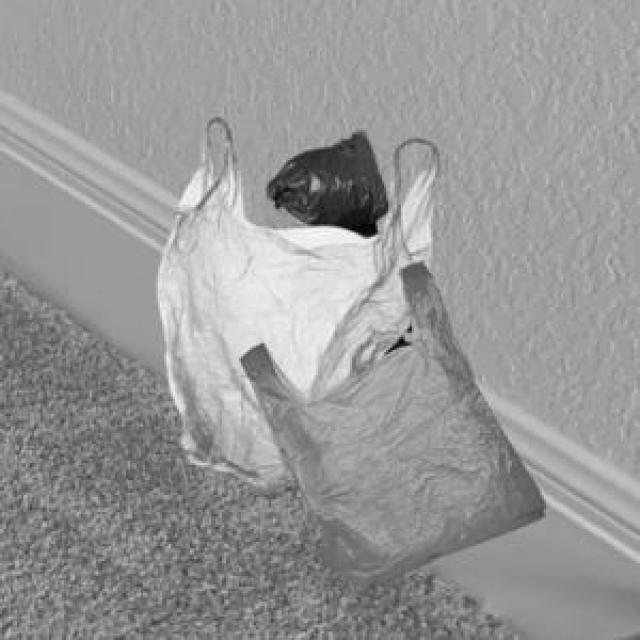miscellaneous trash: (262, 128, 408, 352)
